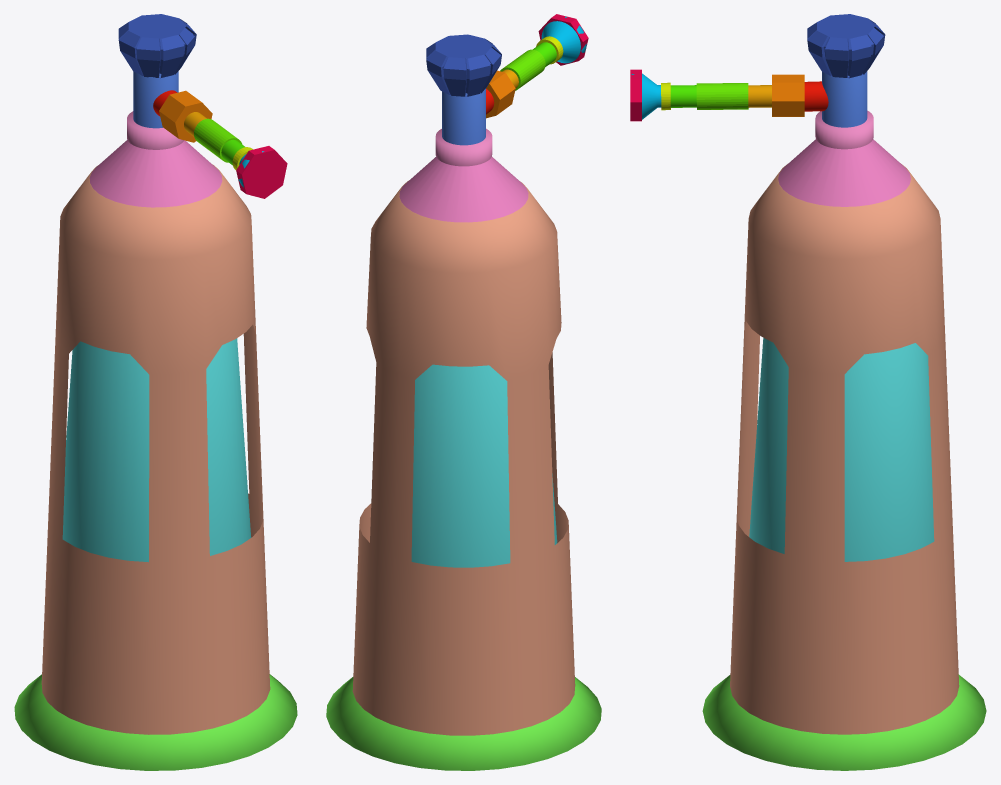
The model's file is 2canisterGOOD.fbx.
The picture shows the model from 3 angles, left to right: view 1: azimuth 30°, elevation 25°; view 2: azimuth 150°, elevation 25°; view 3: azimuth 270°, elevation 25°; orthographic projection. The views are drawn at different scales.
Visible parts, largest first — view 1: Cylinder.007, Cylinder, Cylinder.002, Cylinder.008, Cylinder.012, Cylinder.003, Cylinder.011, Cylinder.015, Cylinder.014, Cylinder.017; view 2: Cylinder.007, Cylinder, Cylinder.002, Cylinder.008, Cylinder.012, Cylinder.011, Cylinder.014, Cylinder.019, Cylinder.017, Cylinder.015, Cylinder.003; view 3: Cylinder.007, Cylinder, Cylinder.002, Cylinder.008, Cylinder.012, Cylinder.011, Cylinder.014, Cylinder.017, Cylinder.015, Cylinder.013, Cylinder.019, Cylinder.003 (+1 smaller).
Boxes of the visible parts, <box> form: Cylinder.007: <box>41,164,270,734</box>; Cylinder: <box>62,338,251,562</box>; Cylinder.002: <box>14,674,297,770</box>; Cylinder.008: <box>89,140,222,207</box>; Cylinder.012: <box>118,14,196,78</box>; Cylinder.003: <box>236,146,287,198</box>; Cylinder.011: <box>133,71,178,128</box>; Cylinder.015: <box>159,90,212,142</box>; Cylinder.014: <box>127,111,183,149</box>; Cylinder.017: <box>194,118,241,162</box>; Cylinder.007: <box>352,180,575,735</box>; Cylinder: <box>411,364,557,567</box>; Cylinder.002: <box>326,677,601,770</box>; Cylinder.008: <box>399,157,528,222</box>; Cylinder.012: <box>426,34,501,96</box>; Cylinder.011: <box>442,88,485,145</box>; Cylinder.014: <box>435,128,492,166</box>; Cylinder.019: <box>541,16,586,63</box>; Cylinder.017: <box>500,49,545,90</box>; Cylinder.015: <box>486,70,515,118</box>; Cylinder.003: <box>538,14,588,65</box>; Cylinder.007: <box>730,163,959,734</box>; Cylinder: <box>749,337,934,561</box>; Cylinder.002: <box>702,674,986,770</box>; Cylinder.008: <box>778,139,910,206</box>; Cylinder.012: <box>807,14,885,78</box>; Cylinder.011: <box>822,71,867,127</box>; Cylinder.014: <box>815,110,873,149</box>; Cylinder.017: <box>696,83,748,109</box>; Cylinder.015: <box>772,74,804,116</box>; Cylinder.013: <box>804,81,828,111</box>; Cylinder.019: <box>631,73,661,119</box>; Cylinder.003: <box>630,69,641,121</box>.
Size of the model in its own units: 536 by 1429 by 673.
